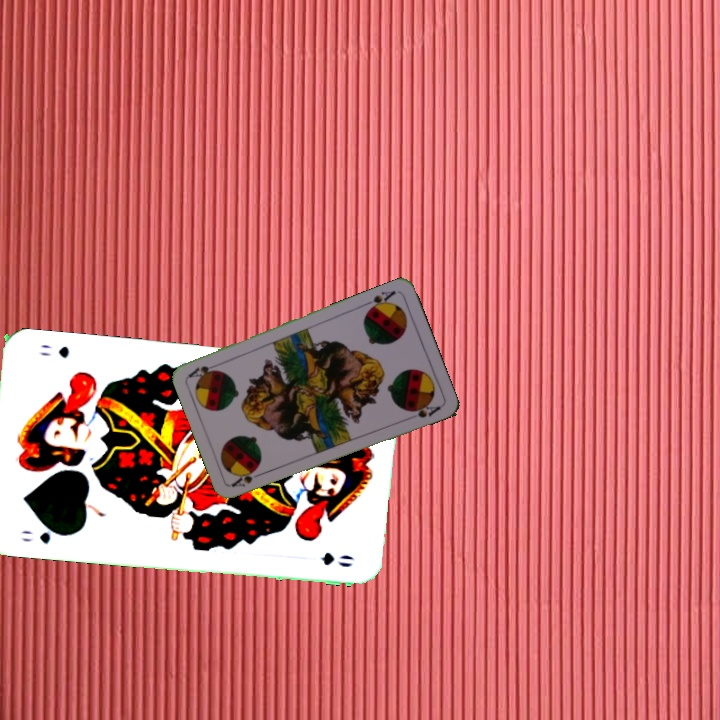GO: (17, 524, 70, 547)
SA: (360, 287, 398, 314), (228, 466, 267, 490)
